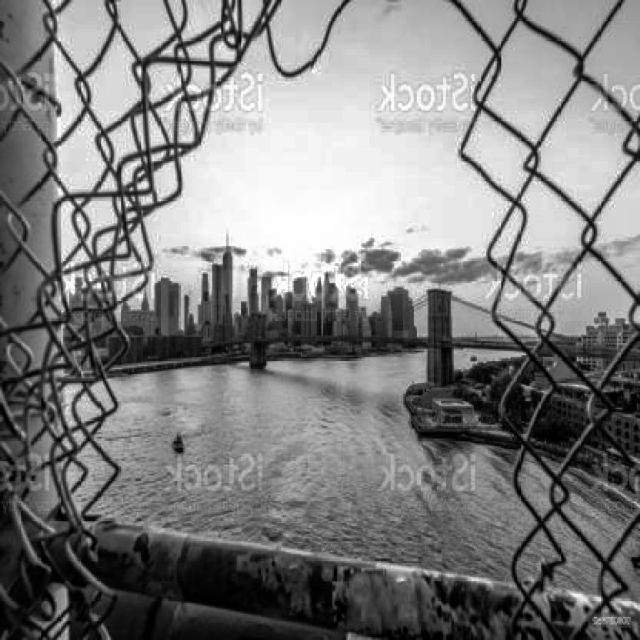anomaly-fence: (75, 11, 631, 640)
